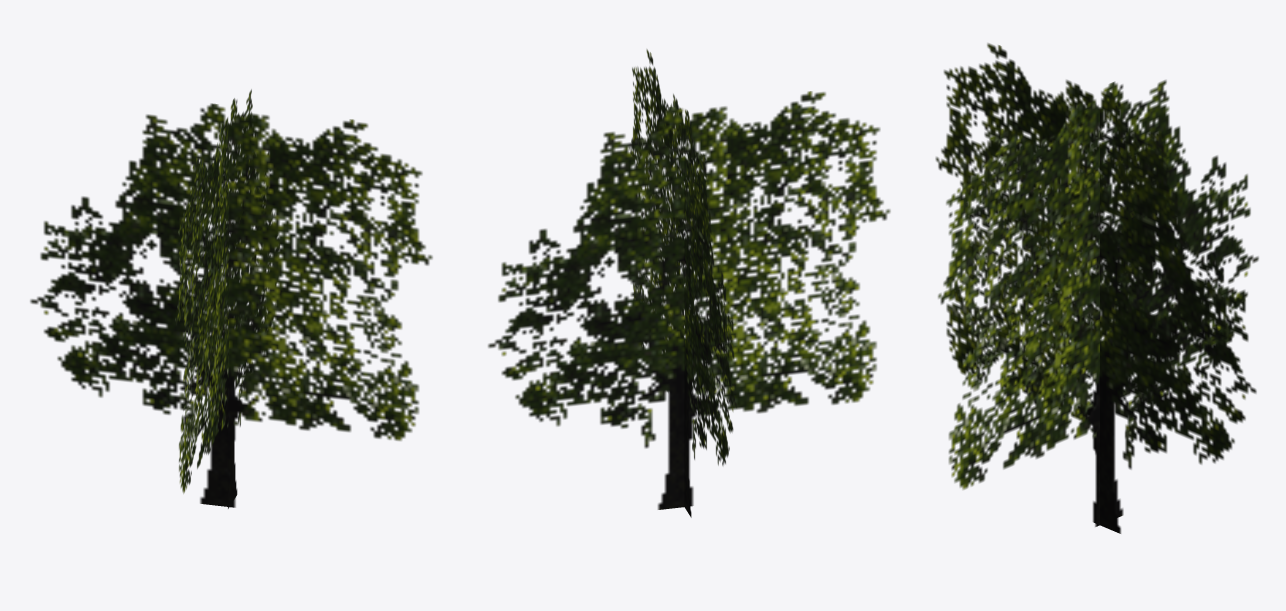
File: tree095.glb
3 renders of one model, left to right at view 1: azimuth 30°, elevation 25°; view 2: azimuth 150°, elevation 25°; view 3: azimuth 270°, elevation 25°, orthographic. The views are drawn at different scales.
Parts seen in each view (by area): view 1: tree095; view 2: tree095; view 3: tree095.
Part boxes in pixels (box(x1,y1,x2,y2)): tree095: box(30, 89, 432, 508); tree095: box(488, 49, 890, 517); tree095: box(935, 43, 1258, 533).
Size of the model in its own units: 2.78 by 4 by 2.78.
Materials: 1 (1 with a texture image).
